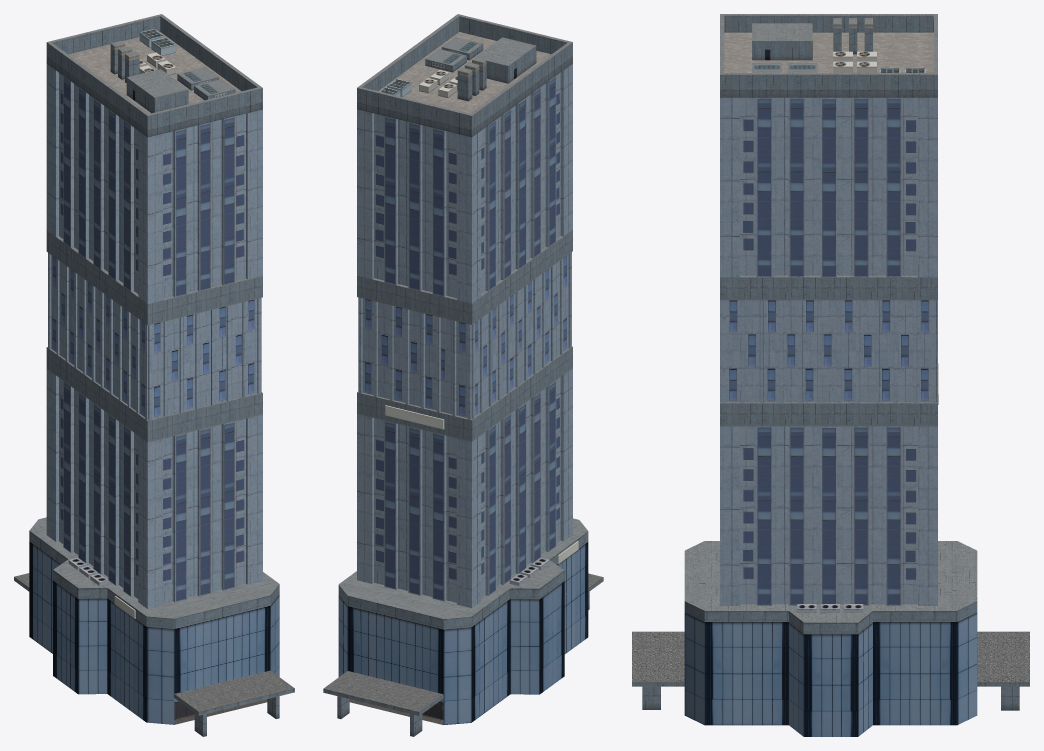
Rendered from Building_04.obj.
The picture shows the model from 3 angles, left to right: view 1: azimuth 30°, elevation 25°; view 2: azimuth 150°, elevation 25°; view 3: azimuth 270°, elevation 25°; orthographic projection. The views are drawn at different scales.
Visible parts, largest first — view 1: Building_04.001_Mesh; view 2: Building_04.001_Mesh; view 3: Building_04.001_Mesh.
Boxes of the visible parts, x1,y1,x2,y2 form: Building_04.001_Mesh: (14, 14, 294, 736); Building_04.001_Mesh: (323, 14, 603, 736); Building_04.001_Mesh: (632, 14, 1029, 736).
Bounding box in the file's own units: 8.28 × 27.23 × 14.89.
